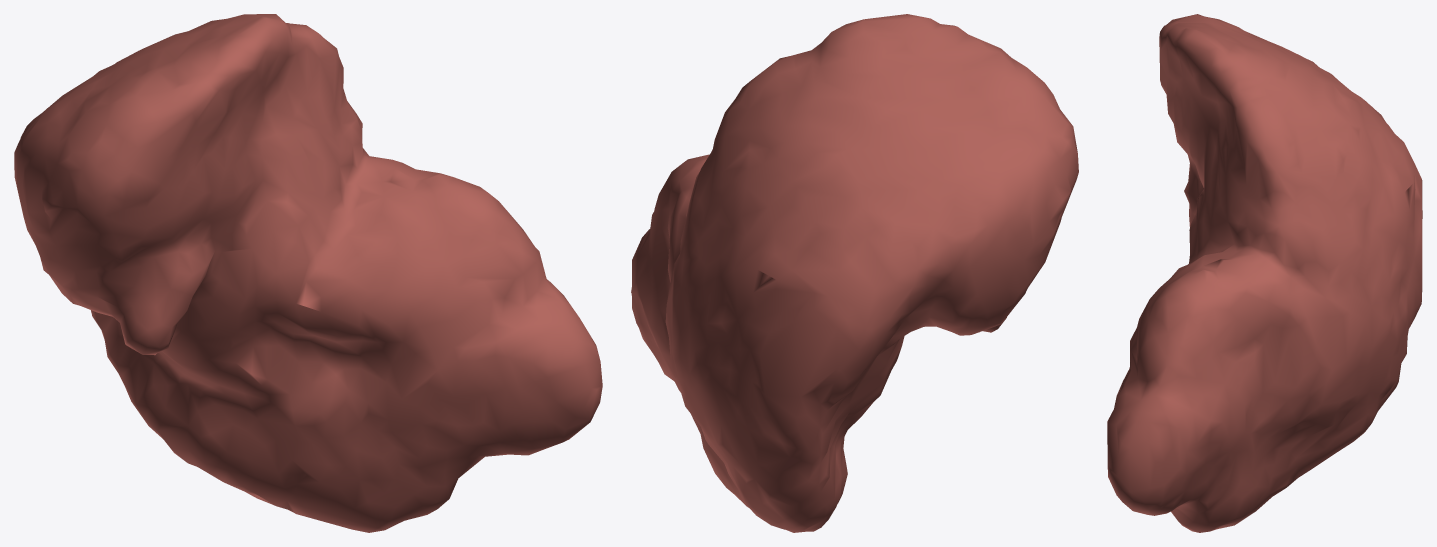
The model's file is tsd_s0196_older_adult_female.lymphatic.LOD4.glb.
3 views of the same model, side by side, from view 1: azimuth 30°, elevation 25°; view 2: azimuth 150°, elevation 25°; view 3: azimuth 270°, elevation 25° (orthographic). The views are drawn at different scales.
Visible parts, largest first — view 1: TSD_S0196.OLDER_ADULT.FEMALE.LYMPHATIC.SPLEEN; view 2: TSD_S0196.OLDER_ADULT.FEMALE.LYMPHATIC.SPLEEN; view 3: TSD_S0196.OLDER_ADULT.FEMALE.LYMPHATIC.SPLEEN.
Part boxes in pixels (<box>): TSD_S0196.OLDER_ADULT.FEMALE.LYMPHATIC.SPLEEN: <box>14,14,602,532</box>; TSD_S0196.OLDER_ADULT.FEMALE.LYMPHATIC.SPLEEN: <box>631,14,1078,532</box>; TSD_S0196.OLDER_ADULT.FEMALE.LYMPHATIC.SPLEEN: <box>1107,14,1422,532</box>.
Size of the model in its own units: 0.0933 by 0.0963 by 0.0631.
